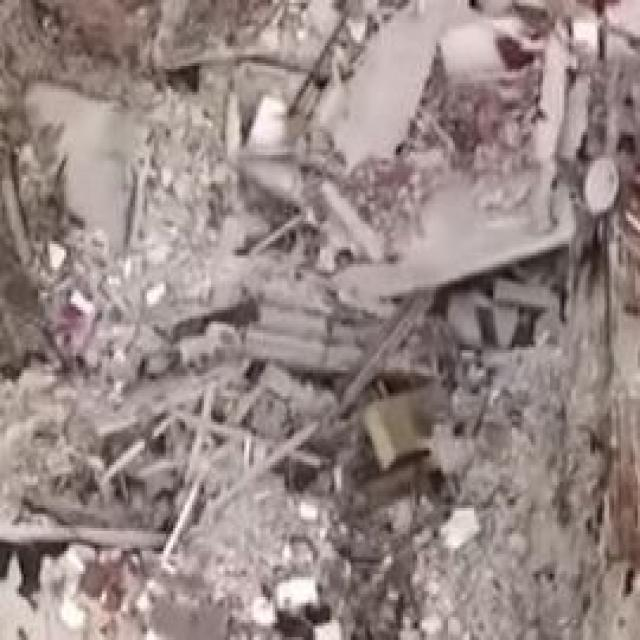collapsed_building: (0, 3, 557, 637)
